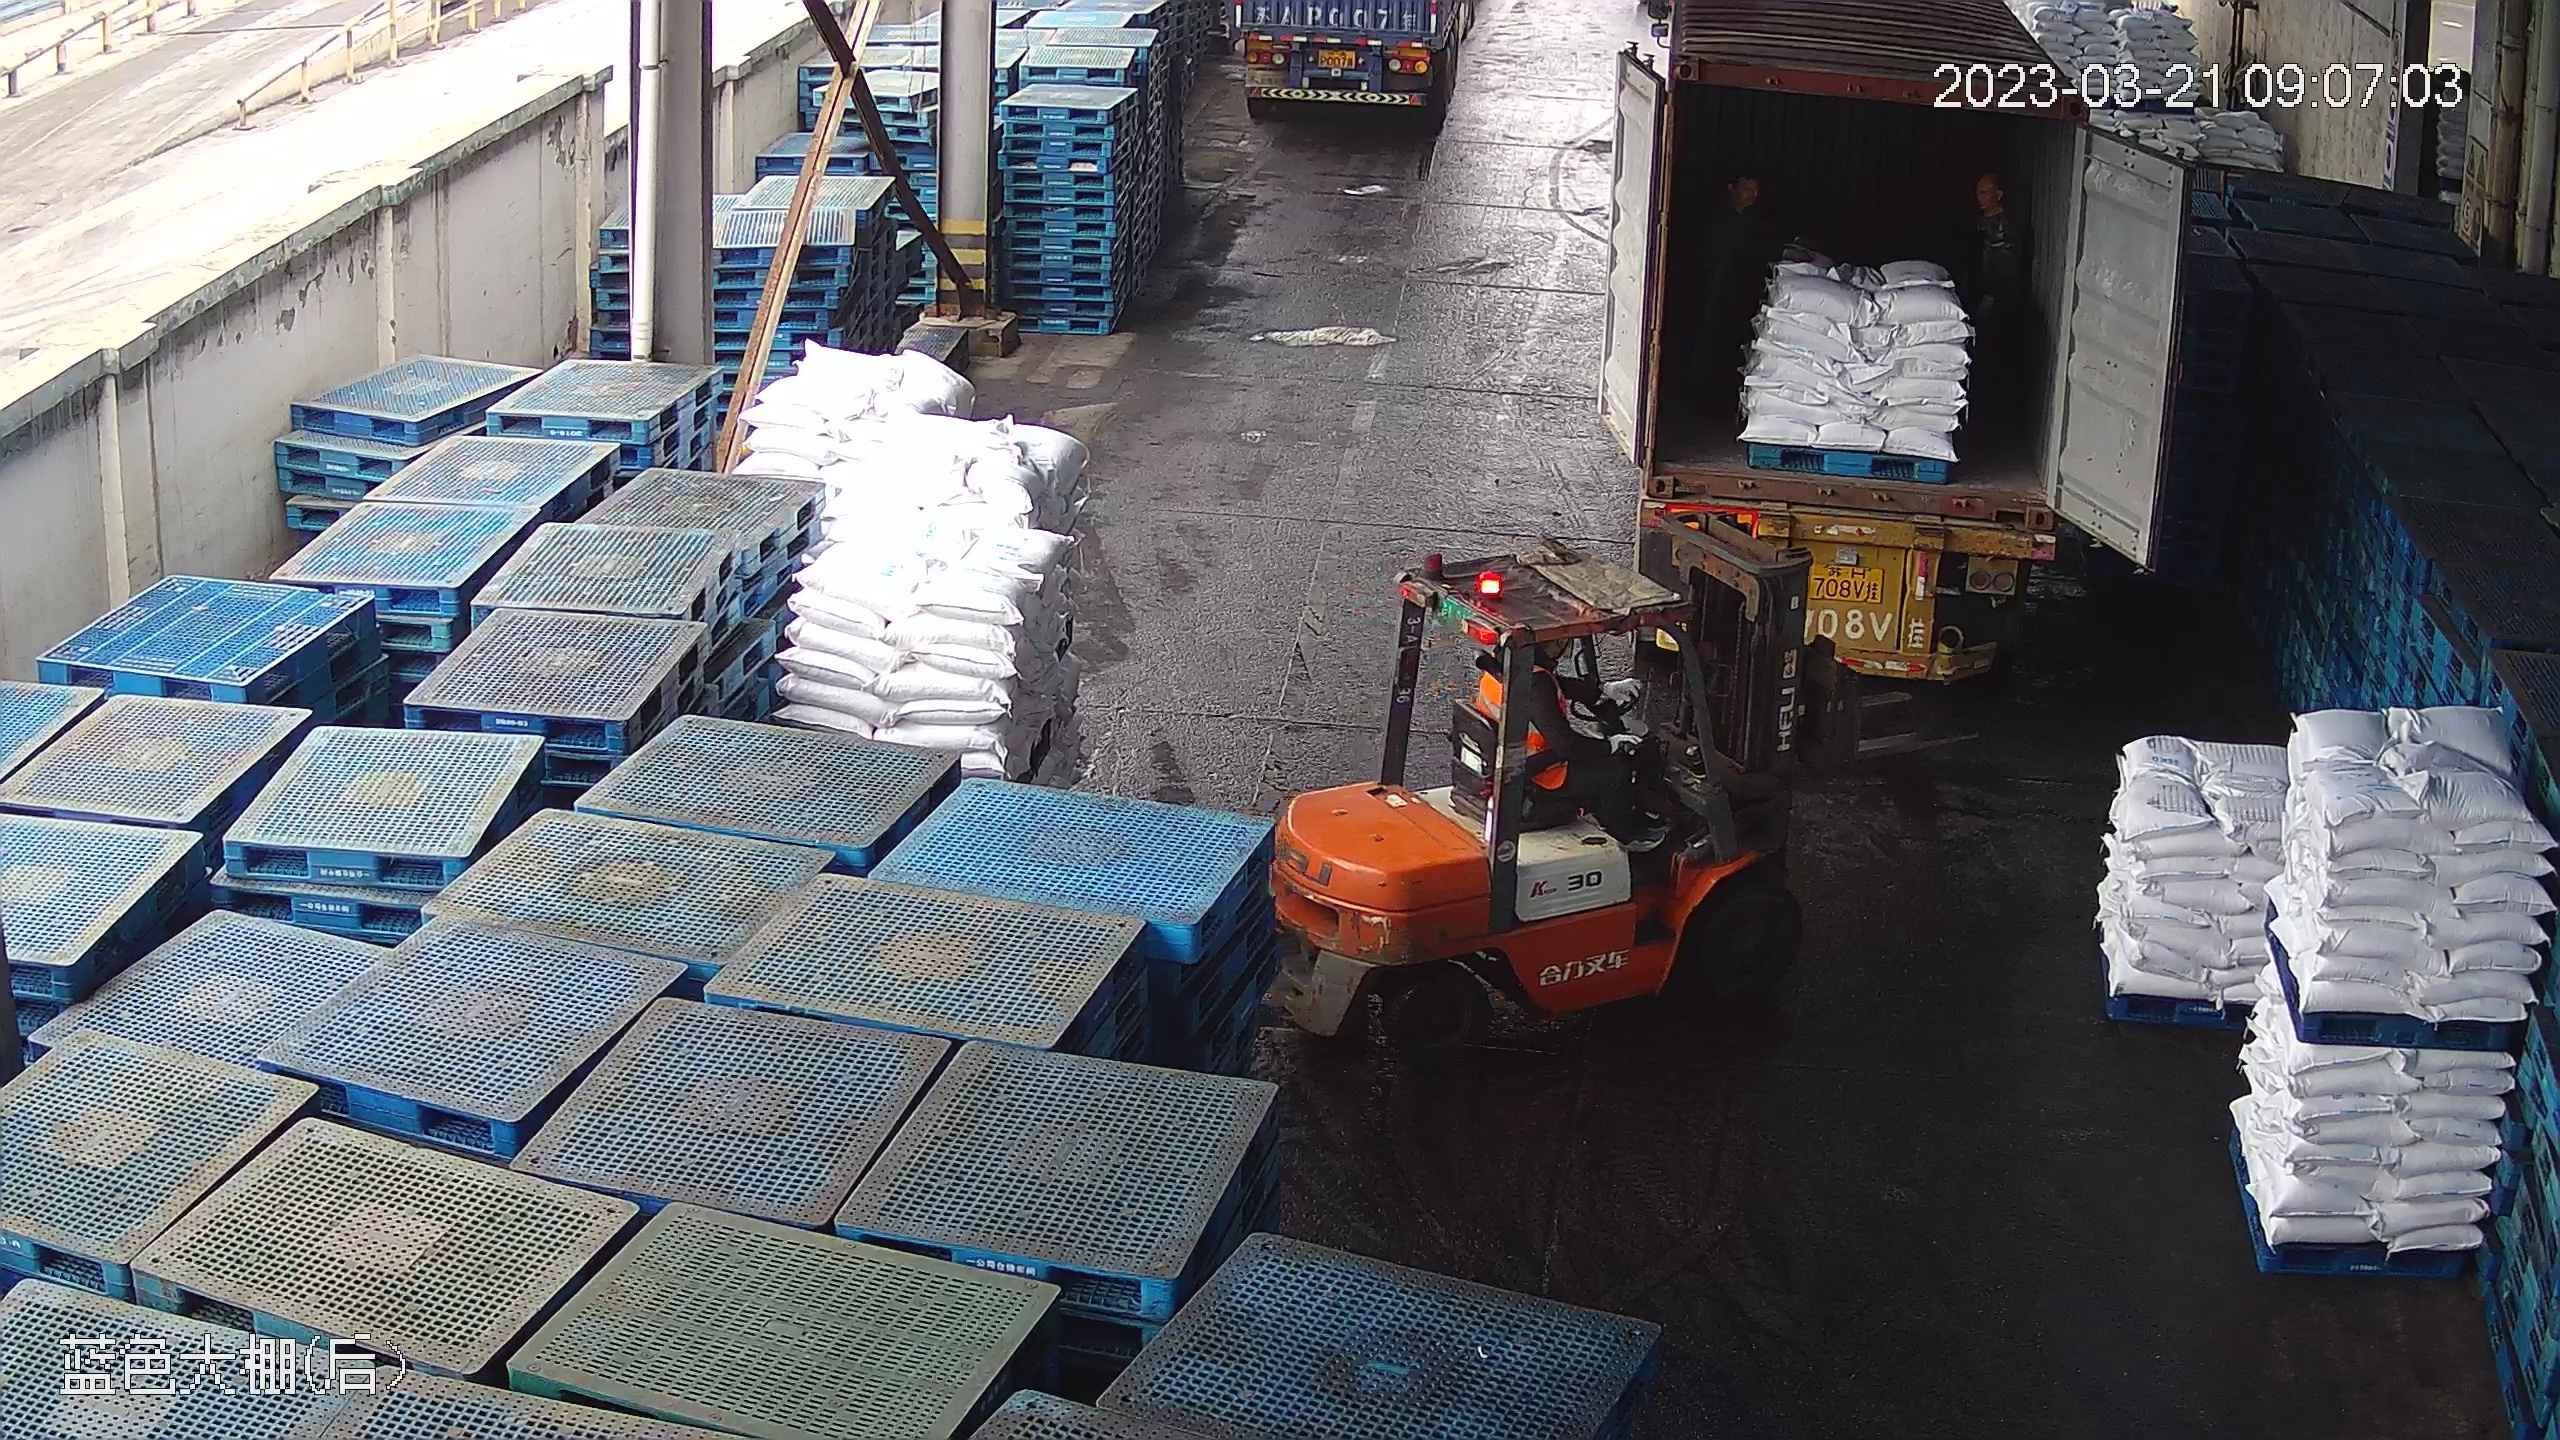head: (1962, 171, 2019, 249), (1721, 174, 1777, 242)
people: (1479, 626, 1660, 839)
truck: (1601, 20, 2091, 651)
